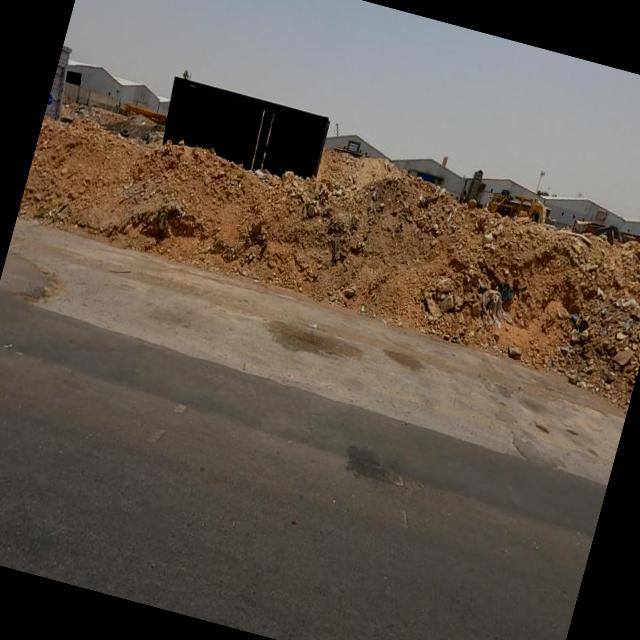debris: (432, 236, 560, 383), (292, 197, 386, 306), (538, 284, 608, 364), (593, 285, 640, 374), (580, 276, 633, 347)
